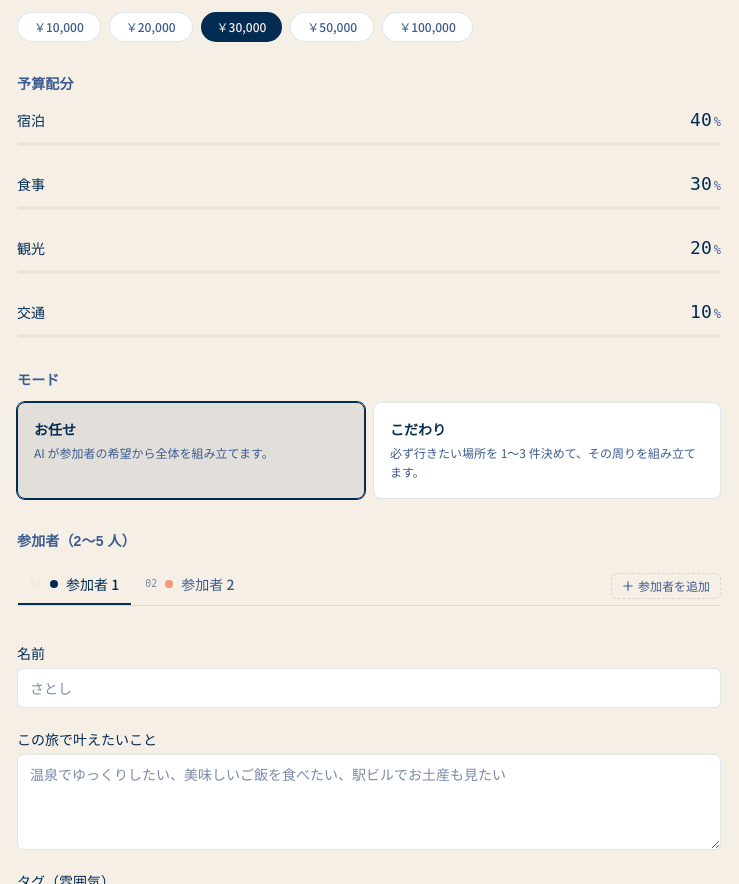
/plan/new mode 切替統合 › auto → こだわり 切替で AnchorPicker は empty state（mode_payload リセット）
(page scrolled)
What coordinates should you click on to do the following:
click the radio button labelled "こだわり 必ず行きたい場所を 1〜3 件決めて、その周りを組み立てます。"
I would click on:
 (547, 450)
Its box is [373, 402, 721, 499].
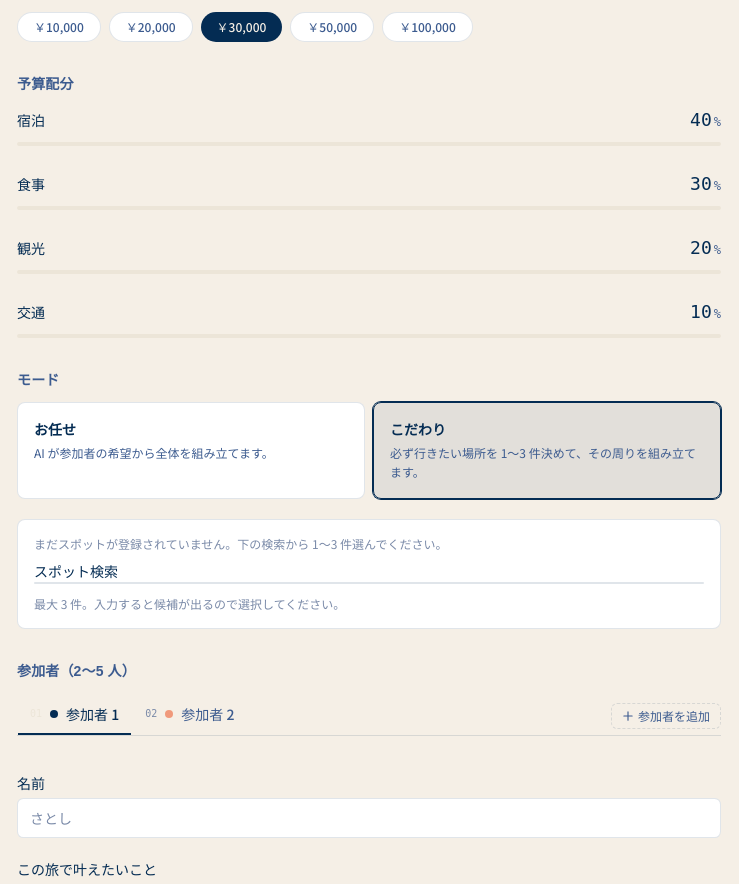
Check: the text "まだスポットが登録されていません。下の検索から 1〜3 件選んでください。" is shown, box [34, 536, 447, 552]
What coordinates should you click on to do the following:
click the radio button labelled "お任せ AI が参加者の希望から全体を組み立てます。"
I would click on:
 (191, 450)
Its box is [17, 402, 365, 499].
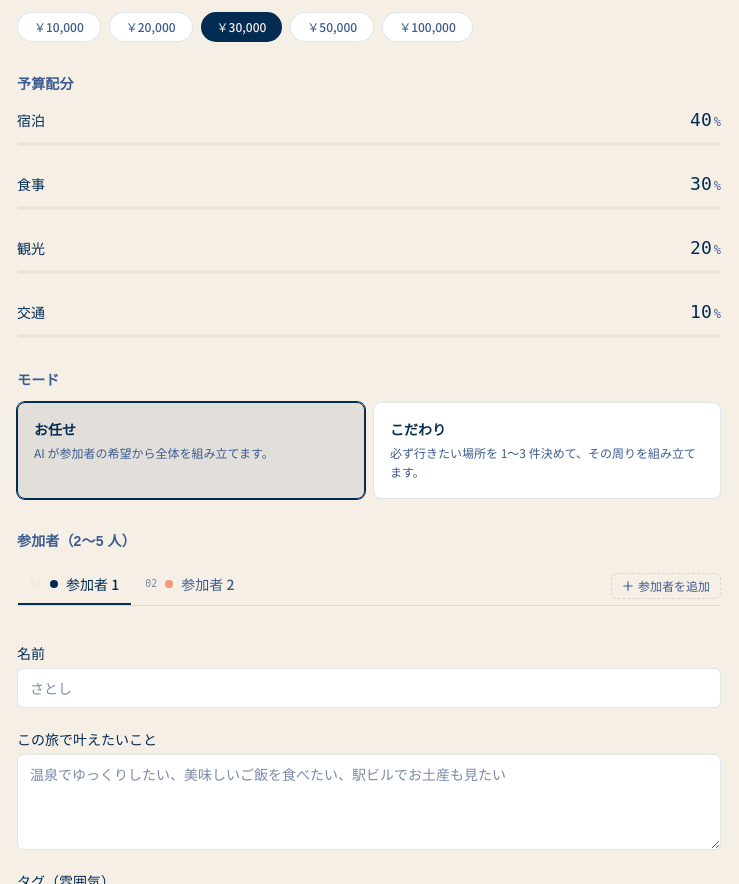
Check: the text with test id "anchor-empty-state" is gone
What coordinates should you click on to do the following:
click the radio button labelled "こだわり 必ず行きたい場所を 1〜3 件決めて、その周りを組み立てます。"
I would click on:
 (547, 450)
Its box is [373, 402, 721, 499].
(page scrolled)
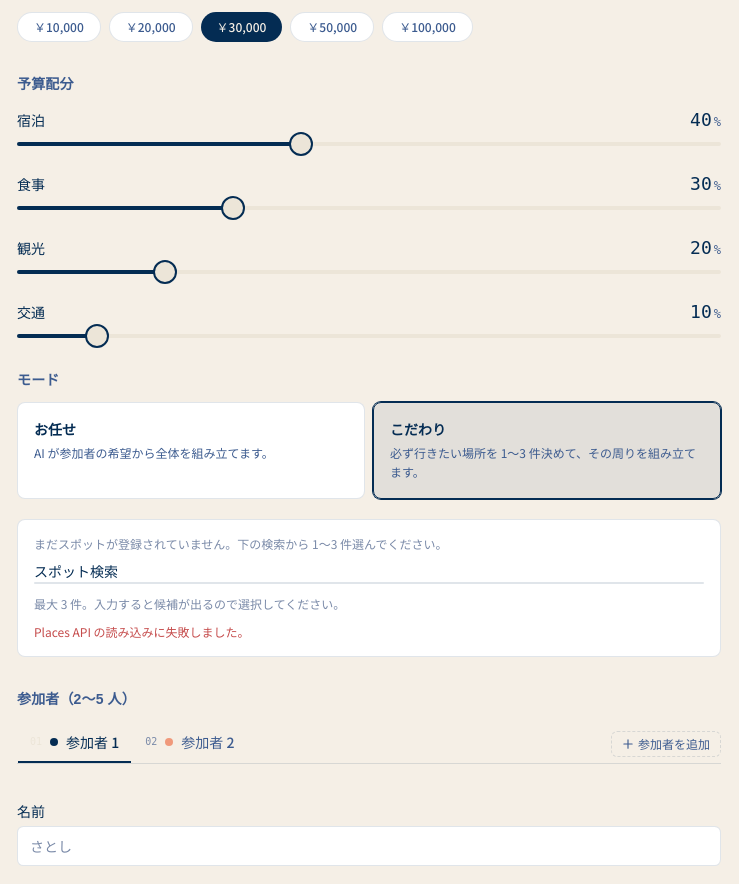
Check: the text "まだスポットが登録されていません。下の検索から 1〜3 件選んでください。" is shown, box [34, 536, 447, 552]
